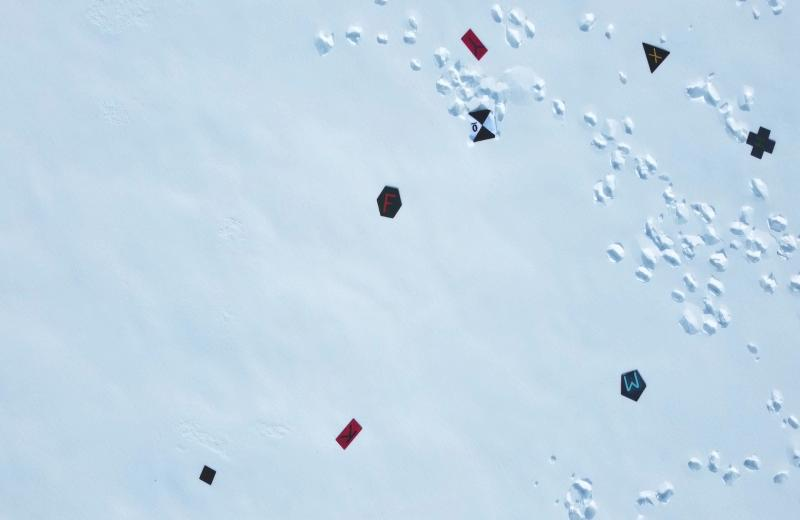Cross: (745, 128, 776, 161)
Hexagon: (375, 186, 406, 221)
Pentagon: (620, 369, 649, 403)
Rectangle: (459, 27, 492, 63), (334, 417, 364, 452), (199, 462, 216, 484)
Triangle: (641, 38, 670, 76)
